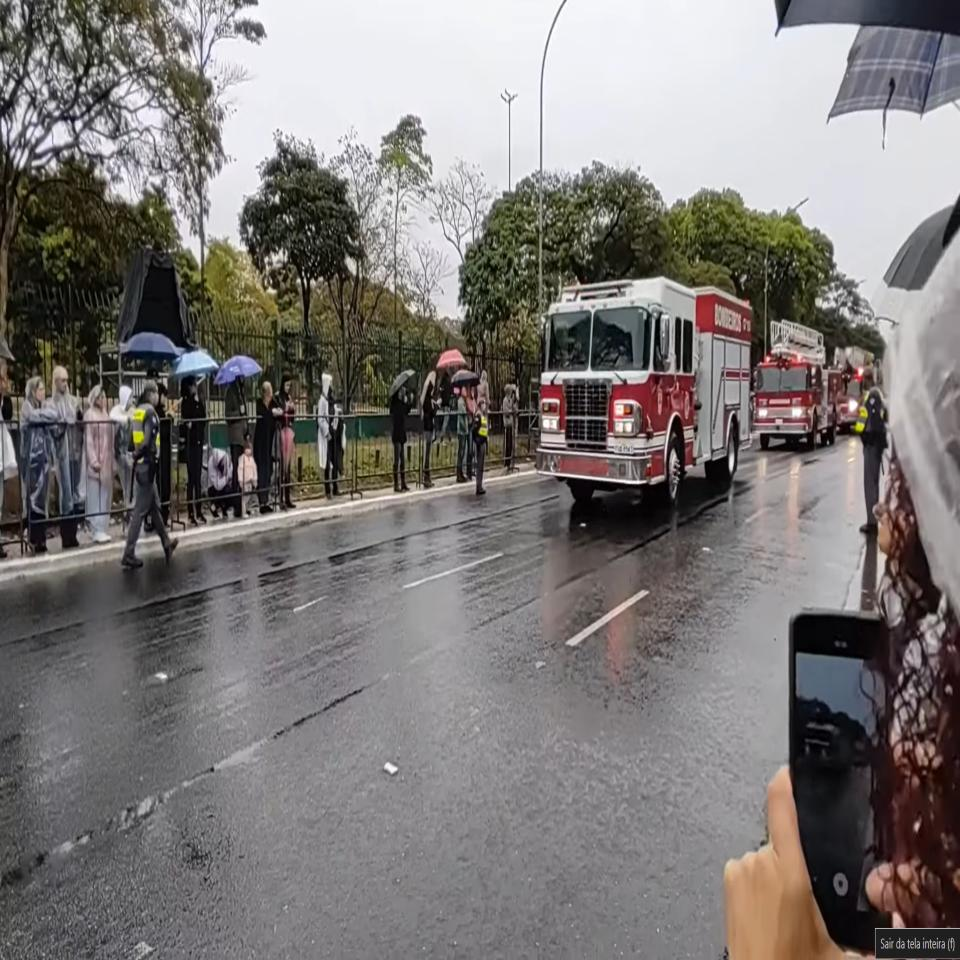viatura: (534, 273, 754, 512), (754, 317, 842, 450)
